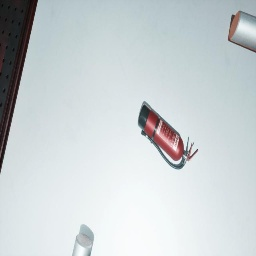0: (229, 10, 256, 51), (72, 233, 92, 256)
FireExtinguisher ]: (138, 104, 198, 170)
